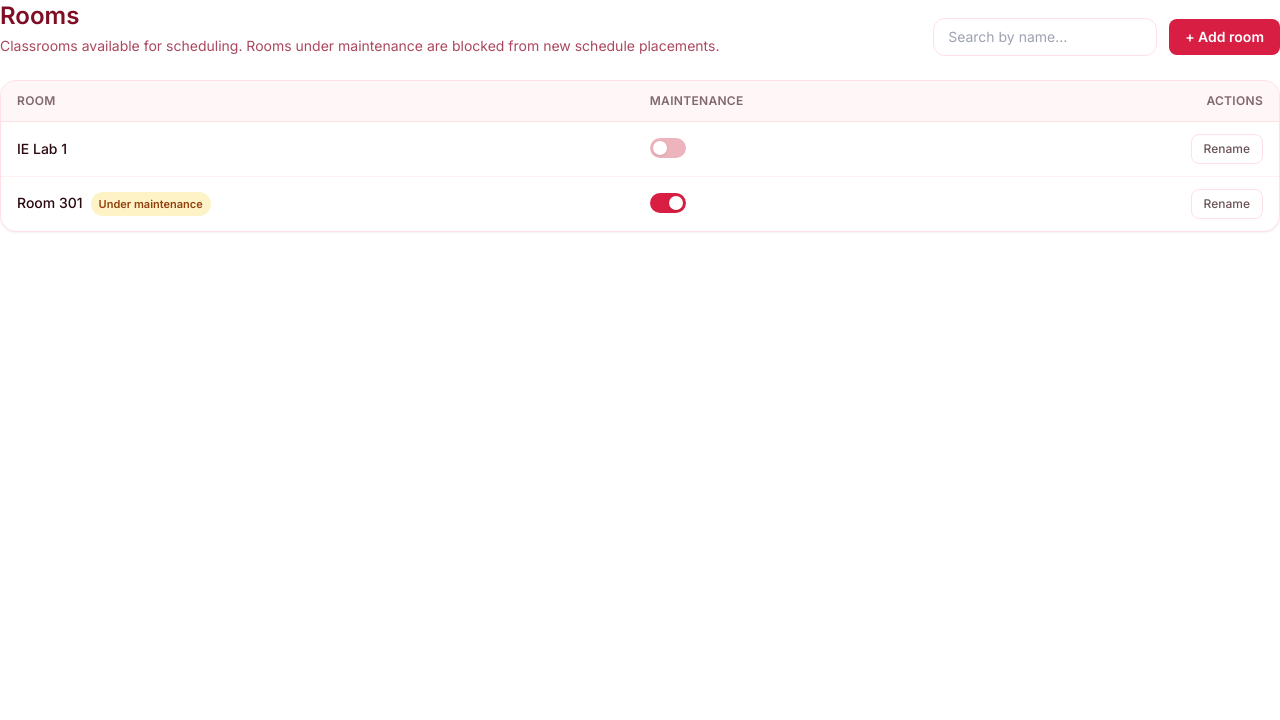
Test case: RoomsPage — rename › pre-fills the dialog and saves the new name in place
Click the button "Rename" in the row of "IE Lab 1". click: (1227, 149)
box: [1191,134,1263,164]
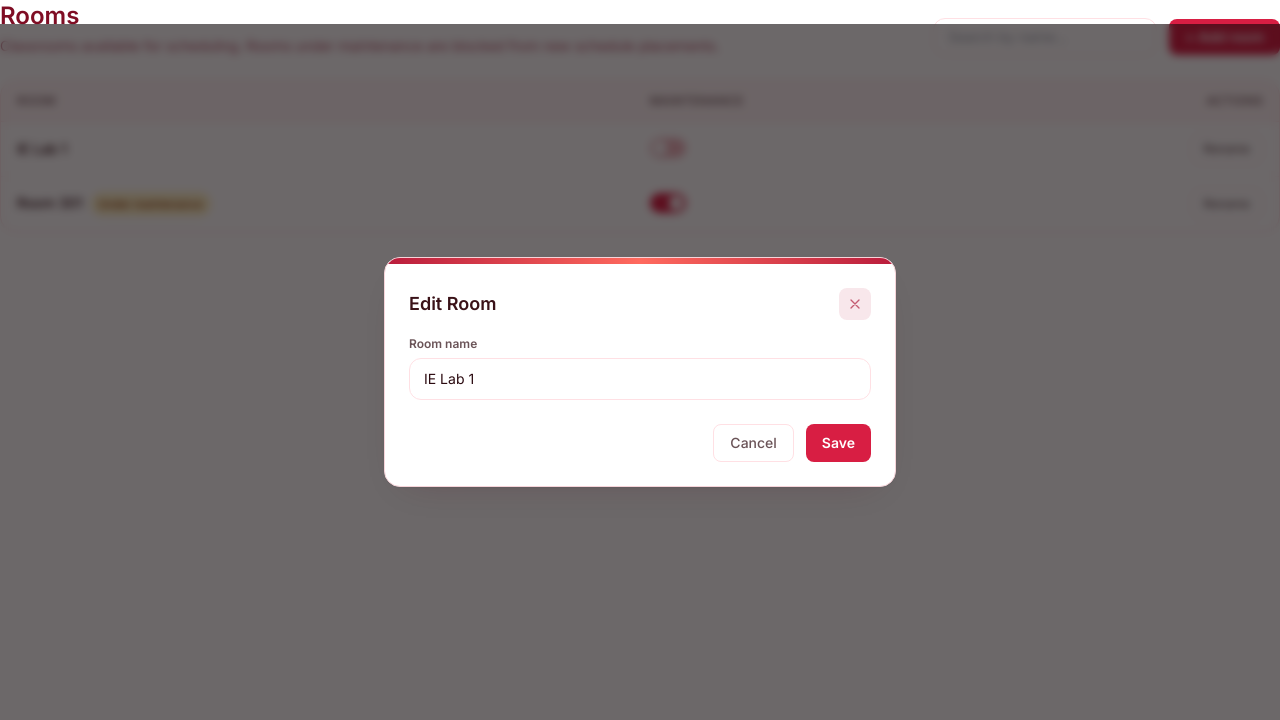
Check: the dialog shows "Edit Room", box [409,293,496,314]
Check: the field labelled "Room name" holds "IE Lab 1"
Replace the text in the field labelled "Room name" with "IE Lab A". click: (640, 379)
box: [409,358,871,400]
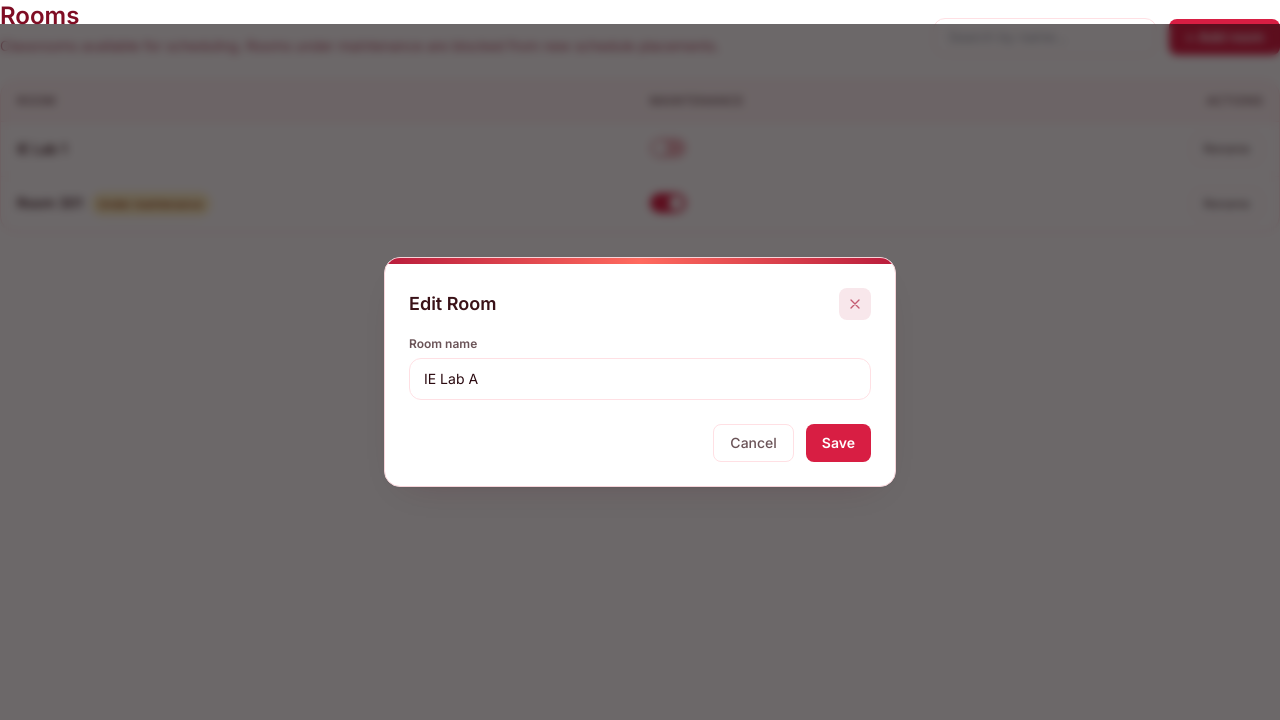
Click the button "Save". click: (838, 443)
box: [806,424,871,462]
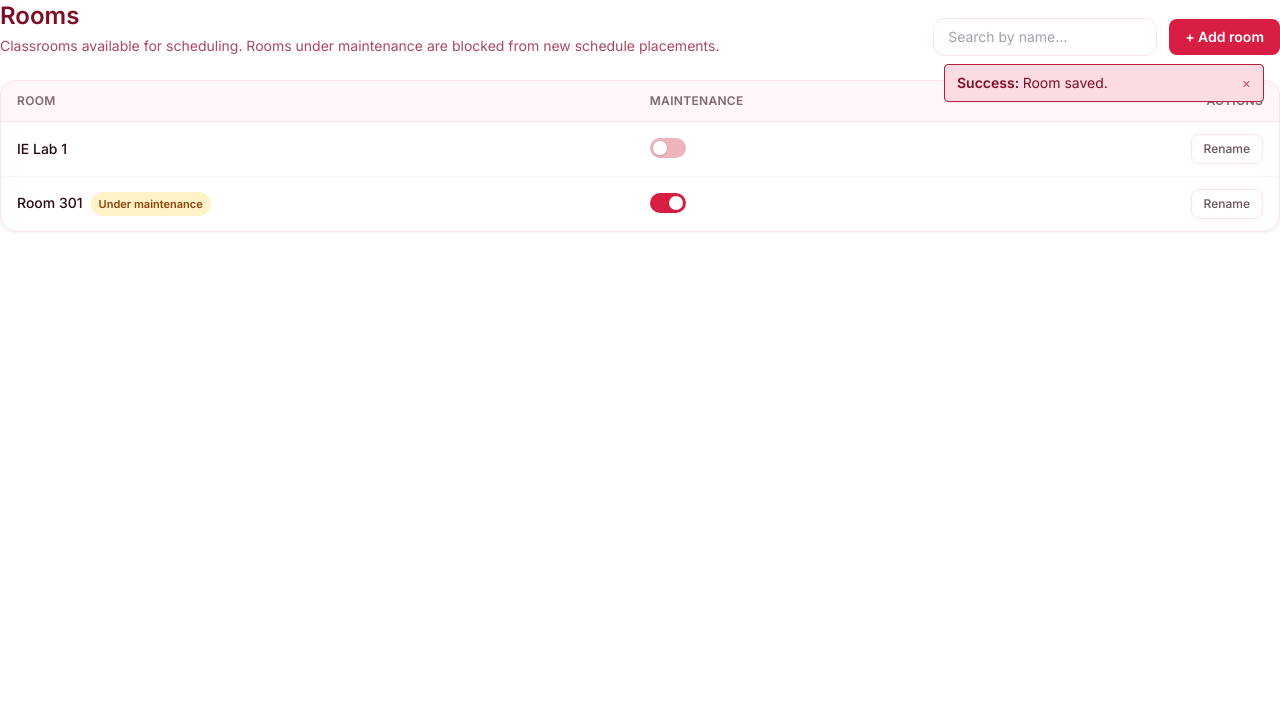
Check: the text "Room saved." is shown, box [1023,74,1108,91]
Check: the dialog is gone
